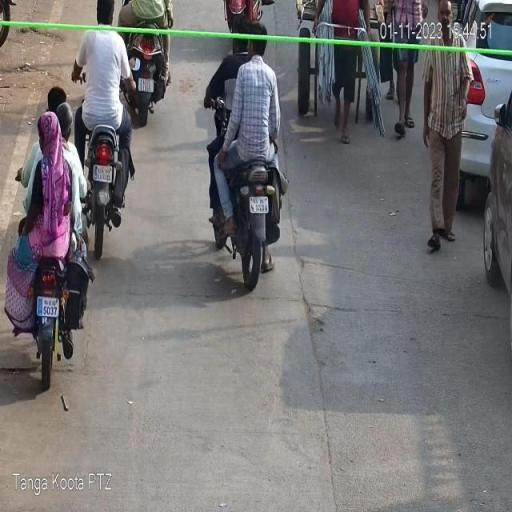tripple riding: (4, 74, 92, 250)
